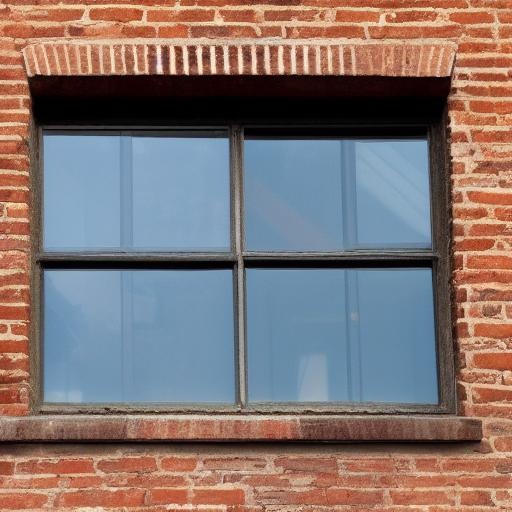Window: (1, 38, 487, 446)
